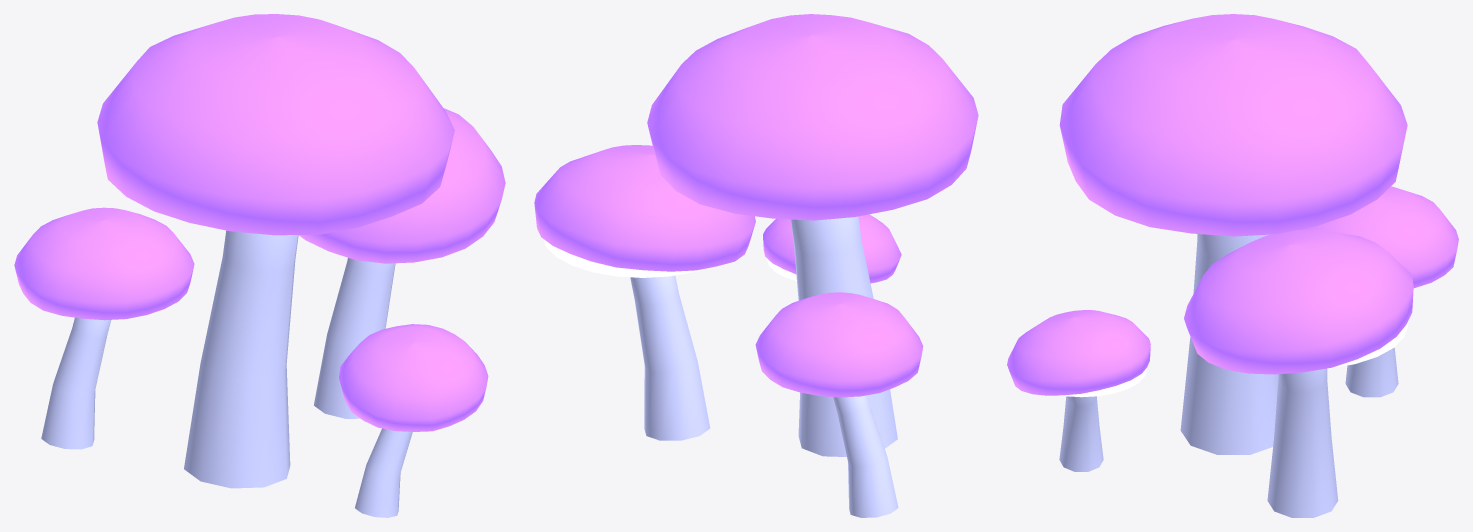
Rendered from mushroom_cluster_violet.glb.
3 renders of one model, left to right at view 1: azimuth 30°, elevation 25°; view 2: azimuth 150°, elevation 25°; view 3: azimuth 270°, elevation 25°, orthographic. The views are drawn at different scales.
Parts seen in each view (by area): view 1: MushroomClusterViolet; view 2: MushroomClusterViolet; view 3: MushroomClusterViolet.
Boxes of the visible parts, x1,y1,x2,y2 form: MushroomClusterViolet: [14, 14, 505, 517]; MushroomClusterViolet: [534, 14, 978, 517]; MushroomClusterViolet: [1007, 14, 1458, 517].
Size of the model in its own units: 0.3469 by 0.3296 by 0.3267.
